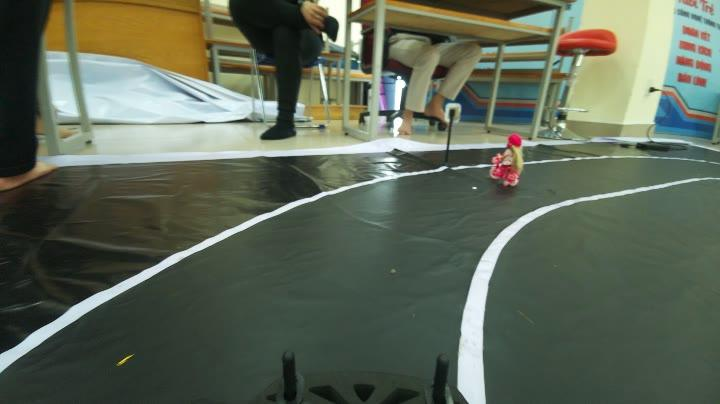pedestrian: (485, 130, 534, 195)
